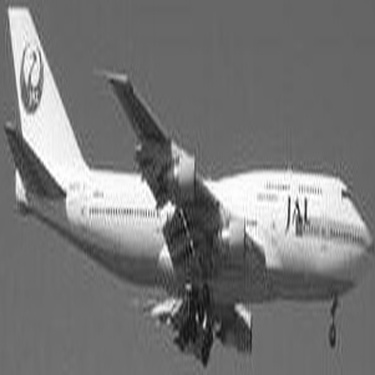airplane: (1, 4, 367, 366)
